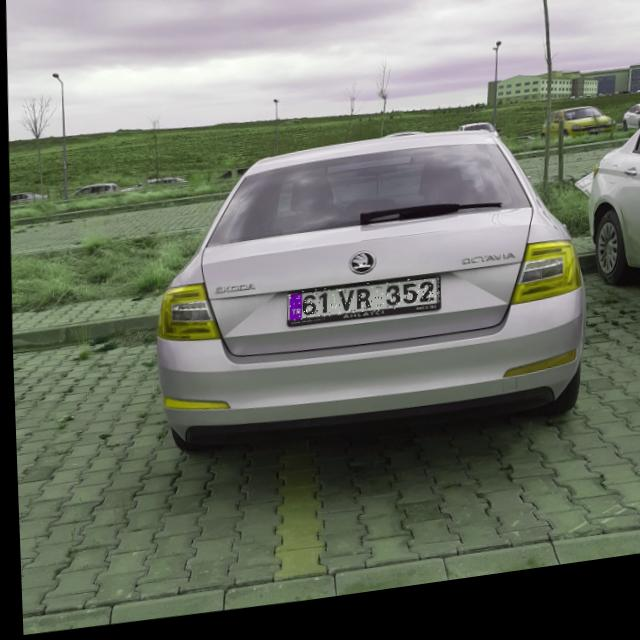license_plate: (284, 284, 437, 333)
